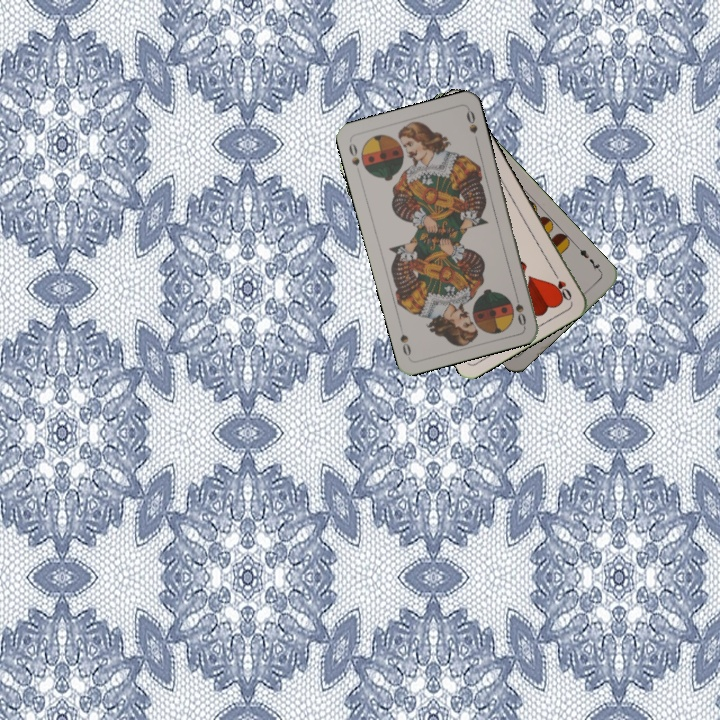E7: (573, 242, 604, 275)
HO: (549, 266, 574, 303)
SO: (510, 288, 529, 328), (345, 137, 362, 168)
